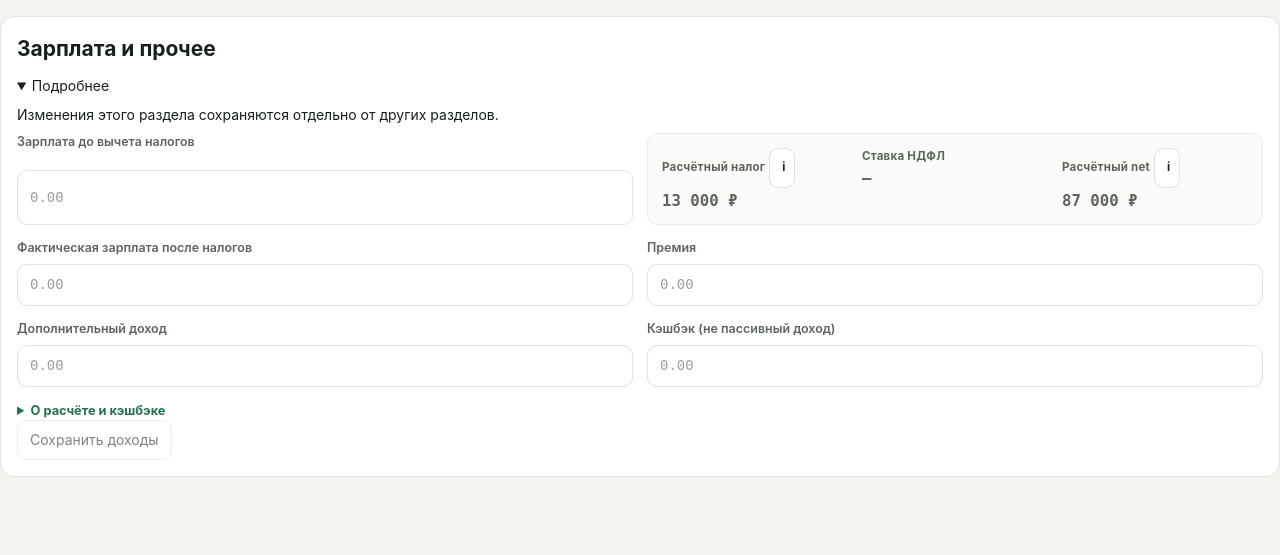
Test: native month editor income leaf › rejects invalid money before any write
Expected: the field labelled "Зарплата до вычета налогов" is shown, [17, 170, 633, 225]
Type "abc" into the field labelled "Премия" at (955, 285), box [647, 264, 1263, 306]
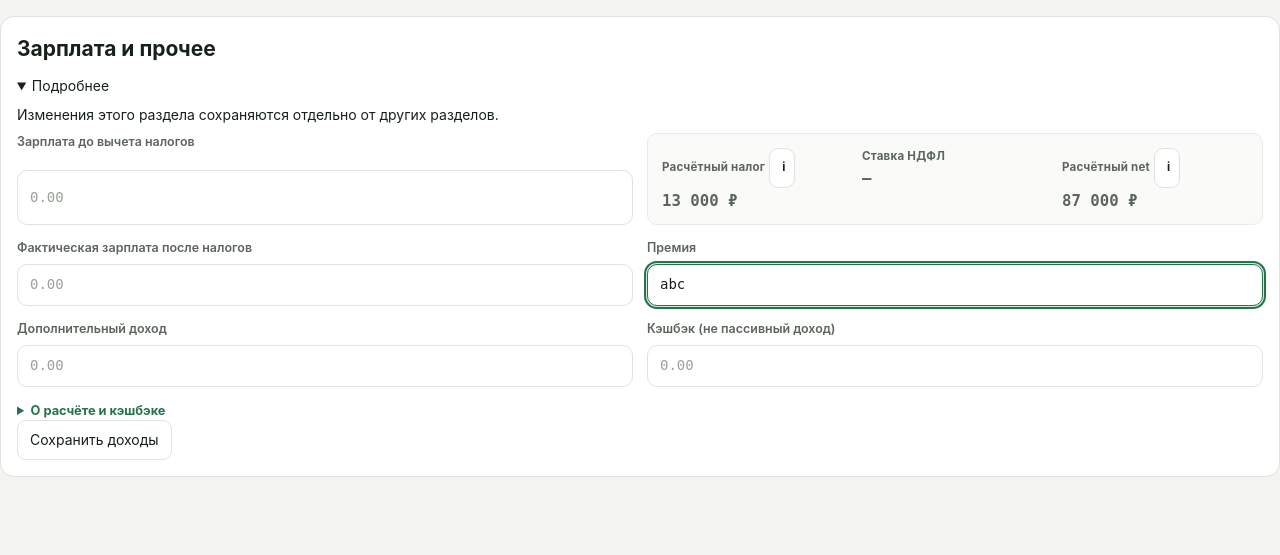
Click the button "Сохранить доходы" at (94, 440), box [17, 420, 172, 460]
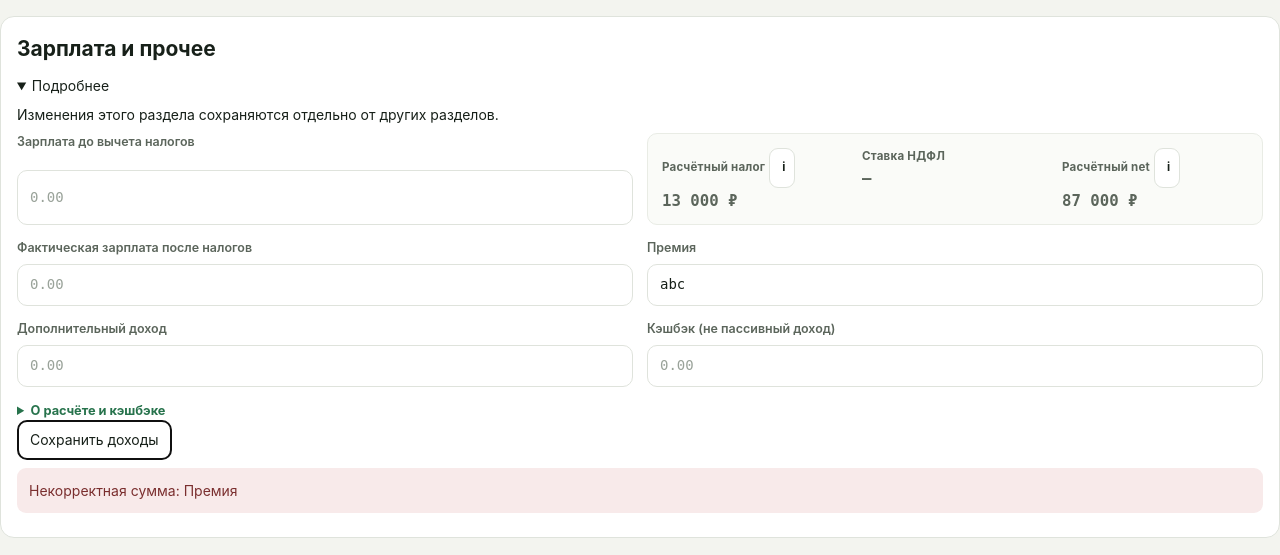
Now the message reads "Некорректная сумма: Премия", box [29, 482, 238, 499]
